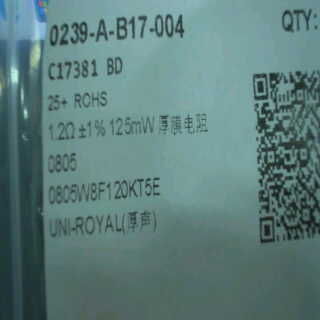1.2R: (45, 120, 78, 176)
